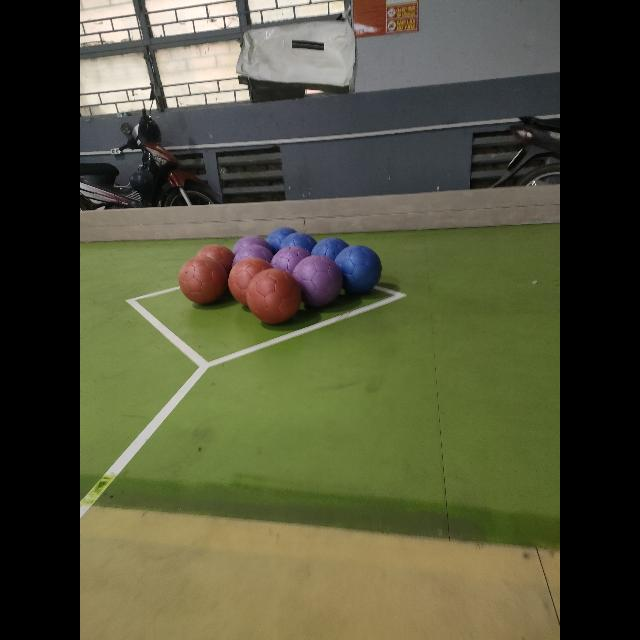B: (334, 245, 382, 293), (280, 232, 316, 252)
P: (293, 256, 343, 306), (232, 236, 274, 264)
R: (247, 269, 301, 323), (179, 256, 227, 304), (232, 259, 270, 303)
